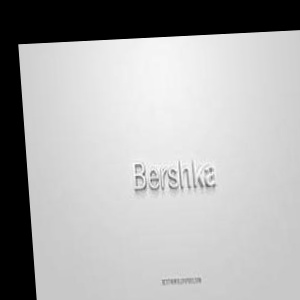bershka: (161, 92, 274, 217)
